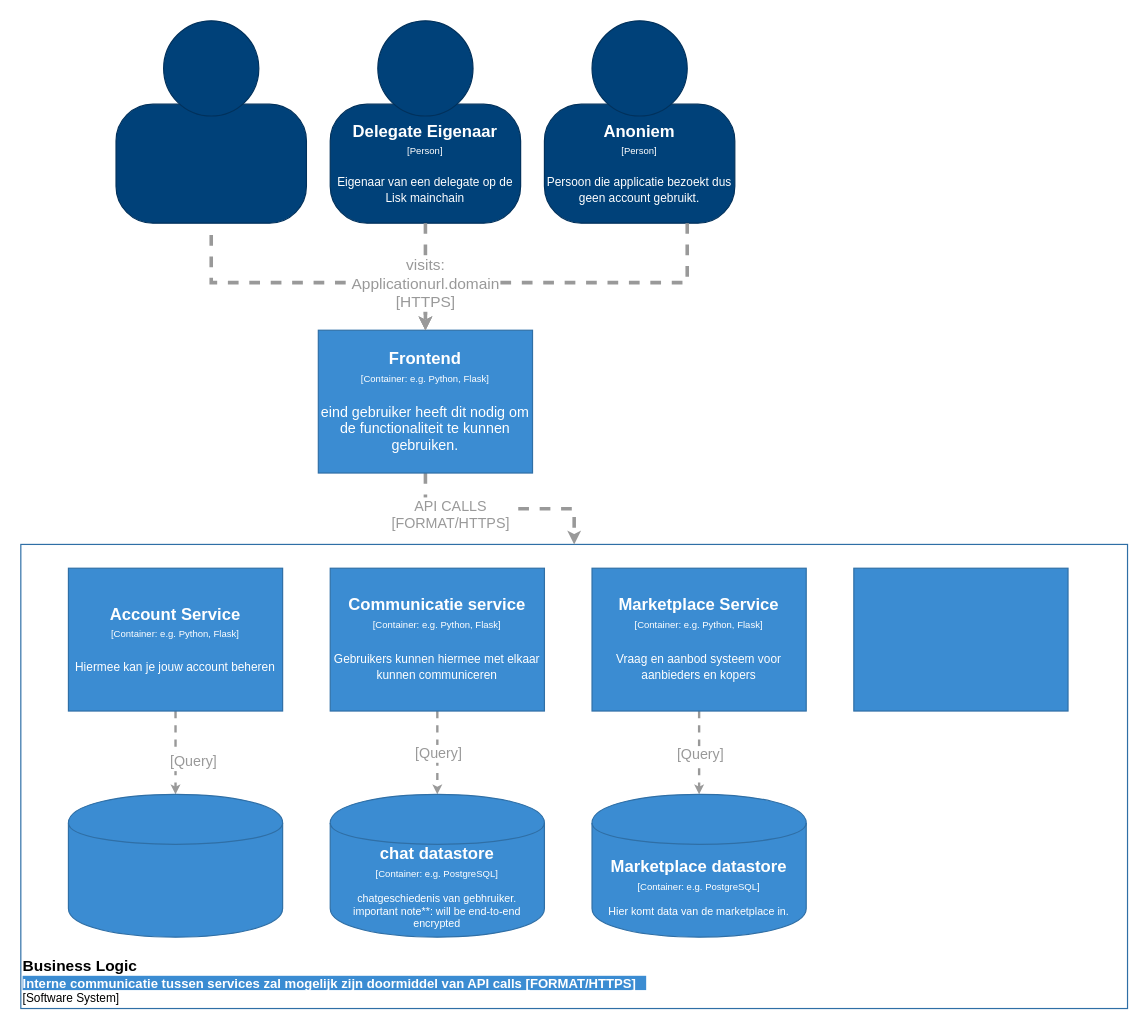
This 1148x1029 diagram has some shape labels left out. Here are the shapes that lost their labels. From the top down, the centre of each, then its label:
At pixel 210 163: "DApp-Eigenaar [Person] eigenaar van een DApp".
At pixel 960 639: "Email Service [Container: e.g. Python, Flask] Stuurt email naar gebruiker".
At pixel 175 865: "Account Datastore [Container: e.g. PostgreSQL] Hier komt data van de account in.".
